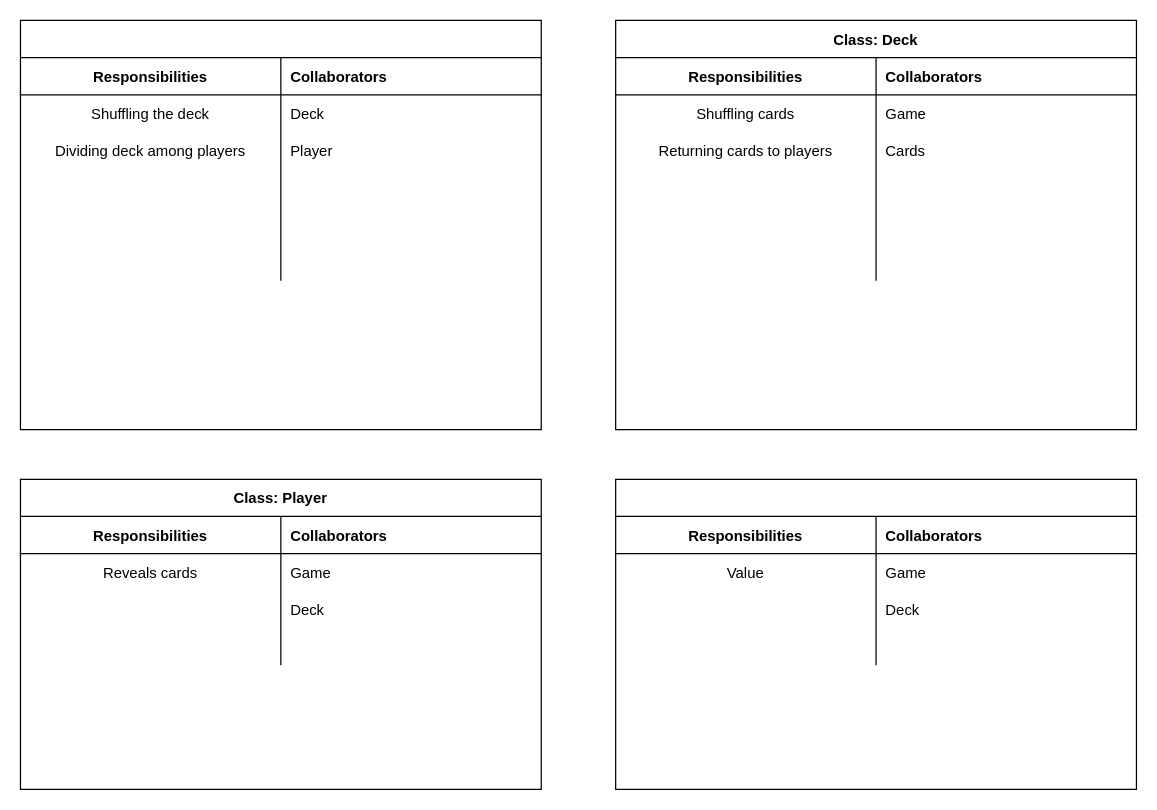
Some shapes in this 1157 by 810 pixel diagram are drawn without their labels. The shapes that lost their labels are listed below. From the top down, each one's box as (x1, y1, x2, y2) in pixels, then its label:
(19, 19, 541, 430): Class: Game
(614, 478, 1136, 789): Class: Cards
